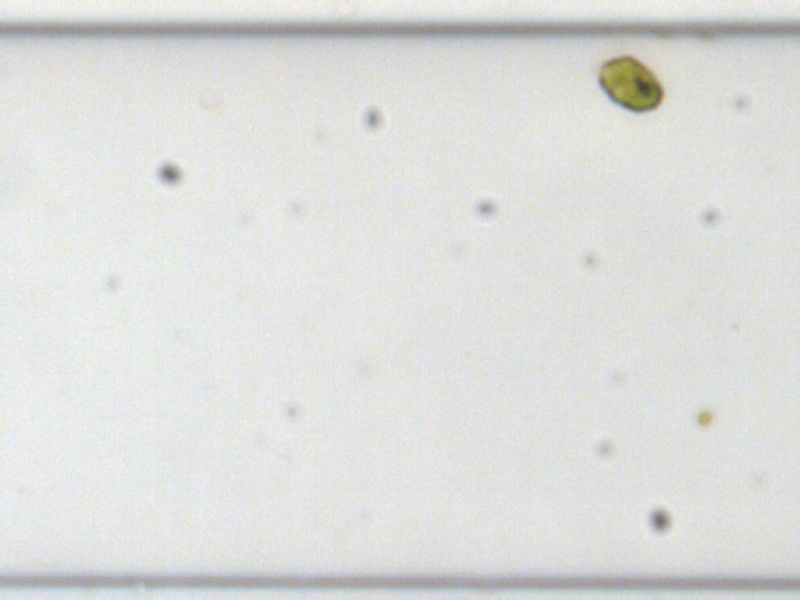Chlorella: (694, 409, 712, 425)
Platymonas: (597, 52, 664, 112)
